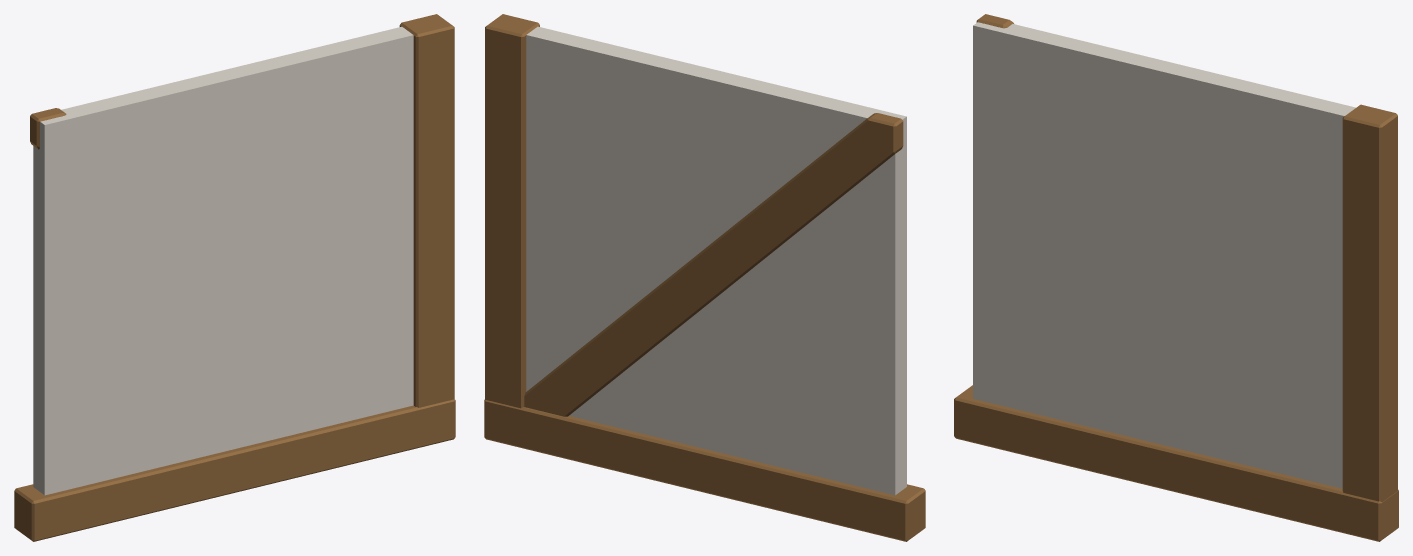
File: WallDiagR.fbx
The picture shows the model from 3 angles, left to right: view 1: azimuth 30°, elevation 25°; view 2: azimuth 150°, elevation 25°; view 3: azimuth 330°, elevation 25°; orthographic projection.
Visible parts, largest first — view 1: Cube.122, Cube.129, Cube.126, Cube.128; view 2: Cube.122, Cube.128, Cube.129, Cube.126; view 3: Cube.122, Cube.126, Cube.129.
Part boxes in pixels (x1=…): Cube.122: x1=33, y1=26, x2=413, y2=495; Cube.129: x1=14, y1=399, x2=455, y2=541; Cube.126: x1=399, y1=14, x2=454, y2=407; Cube.128: x1=30, y1=108, x2=66, y2=149; Cube.122: x1=526, y1=26, x2=906, y2=495; Cube.128: x1=524, y1=113, x2=903, y2=416; Cube.129: x1=484, y1=399, x2=925, y2=541; Cube.126: x1=485, y1=14, x2=539, y2=408; Cube.122: x1=973, y1=22, x2=1355, y2=488; Cube.126: x1=1342, y1=104, x2=1397, y2=502; Cube.129: x1=954, y1=385, x2=1398, y2=541.
Bounding box in the file's own units: 216 × 202 × 17.27.
